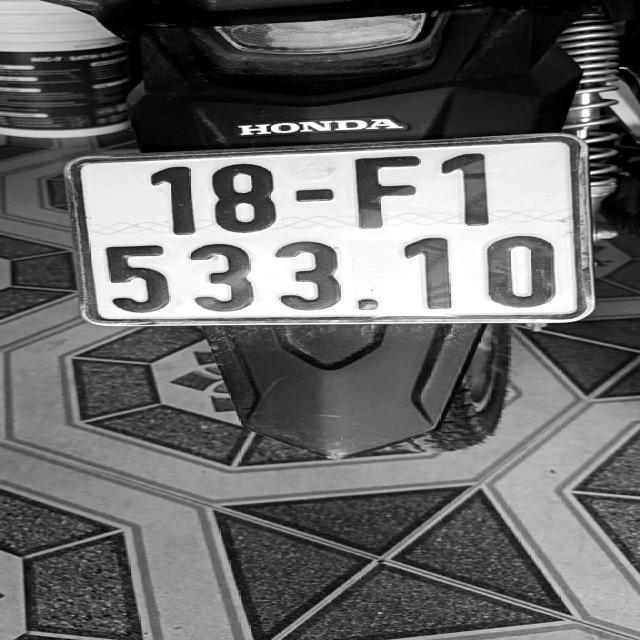license_plate: (44, 148, 637, 328)
